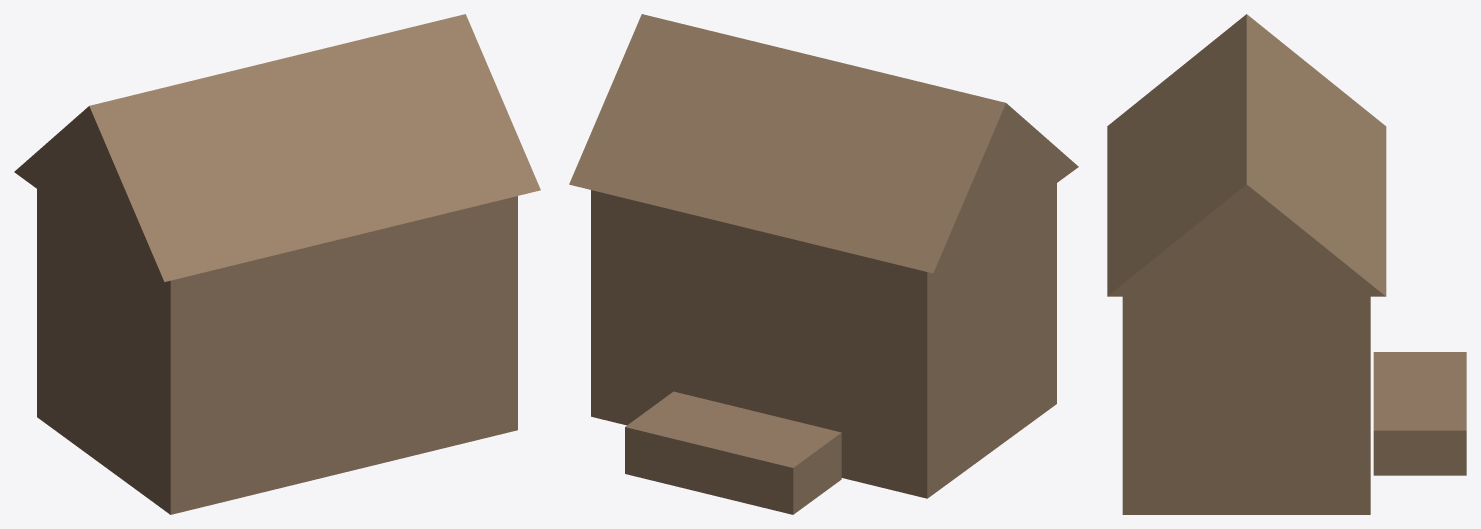
The model's file is warehouse.obj.
3 renders of one model, left to right at view 1: azimuth 30°, elevation 25°; view 2: azimuth 150°, elevation 25°; view 3: azimuth 270°, elevation 25°, orthographic. The views are drawn at different scales.
Bounding box in the file's own units: 0.65 × 0.6 × 0.58.
